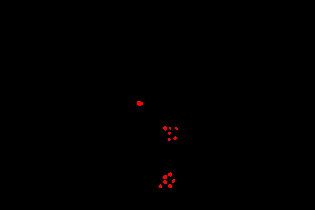Target: (137, 101, 143, 106), (163, 126, 167, 131), (168, 172, 172, 177), (173, 136, 177, 140), (163, 175, 167, 179), (163, 180, 167, 184), (168, 184, 172, 188), (172, 179, 175, 183), (159, 184, 162, 188), (175, 127, 178, 130), (168, 132, 171, 135), (168, 138, 171, 141), (169, 127, 171, 130)
